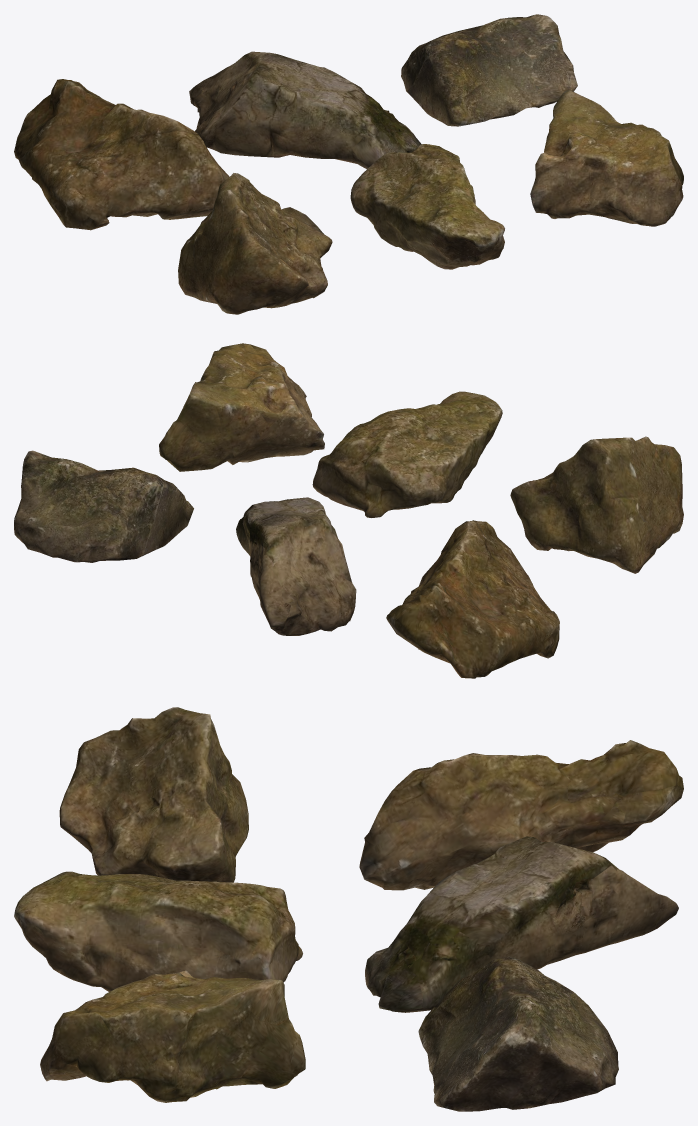
File: rock_moss_set_01.glb
3 renders of one model, top to bottom at view 1: azimuth 30°, elevation 25°; view 2: azimuth 150°, elevation 25°; view 3: azimuth 270°, elevation 25°, orthographic. The views are drawn at different scales.
Visible parts, largest first — view 1: rock_moss_set_01_rock01, rock_moss_set_01_rock02, rock_moss_set_01_rock06, rock_moss_set_01_rock04, rock_moss_set_01_rock03, rock_moss_set_01_rock05; view 2: rock_moss_set_01_rock04, rock_moss_set_01_rock01, rock_moss_set_01_rock05, rock_moss_set_01_rock03, rock_moss_set_01_rock06, rock_moss_set_01_rock02; view 3: rock_moss_set_01_rock01, rock_moss_set_01_rock02, rock_moss_set_01_rock05, rock_moss_set_01_rock06, rock_moss_set_01_rock04, rock_moss_set_01_rock03.
Boxes of the visible parts, <box> form: rock_moss_set_01_rock01: <box>14,79,229,230</box>; rock_moss_set_01_rock02: <box>189,51,421,169</box>; rock_moss_set_01_rock06: <box>530,90,683,226</box>; rock_moss_set_01_rock04: <box>178,173,332,314</box>; rock_moss_set_01_rock03: <box>401,14,577,126</box>; rock_moss_set_01_rock05: <box>350,144,504,269</box>; rock_moss_set_01_rock04: <box>510,436,683,573</box>; rock_moss_set_01_rock01: <box>386,520,559,678</box>; rock_moss_set_01_rock05: <box>312,391,502,517</box>; rock_moss_set_01_rock03: <box>14,450,193,562</box>; rock_moss_set_01_rock06: <box>159,343,324,471</box>; rock_moss_set_01_rock02: <box>236,497,356,635</box>; rock_moss_set_01_rock01: <box>359,740,683,890</box>; rock_moss_set_01_rock02: <box>365,836,678,1012</box>; rock_moss_set_01_rock05: <box>14,871,302,991</box>; rock_moss_set_01_rock06: <box>40,970,305,1102</box>; rock_moss_set_01_rock04: <box>59,707,248,882</box>; rock_moss_set_01_rock03: <box>418,956,618,1111</box>.
Size of the model in its own units: 8 by 1.76 by 6.94.
1 material, 1 textured.
